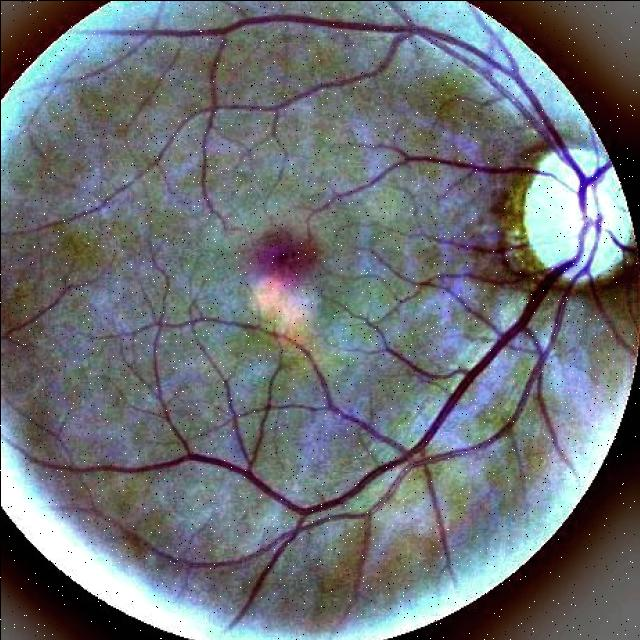Macula: (248, 226, 327, 287)
Nerves: (83, 24, 612, 622), (472, 62, 565, 155), (405, 152, 565, 186), (407, 19, 489, 63), (470, 235, 526, 265), (334, 21, 399, 29)
Optic Disk: (522, 146, 629, 283)
